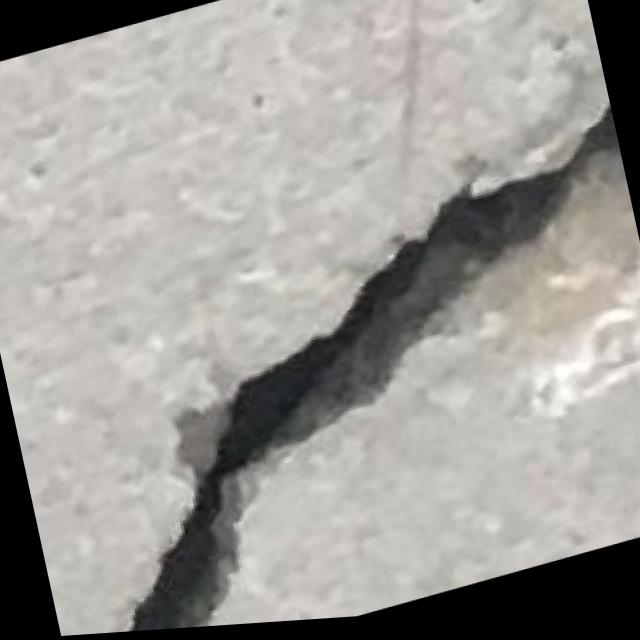Crack: (0, 92, 640, 640)
